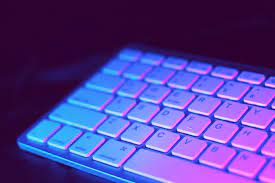keyboard: (22, 41, 275, 181)
